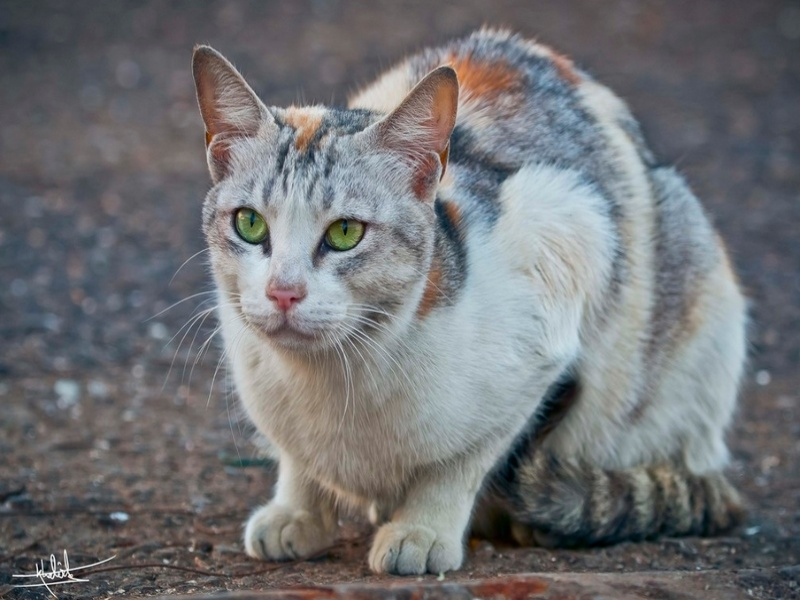cat: (177, 18, 759, 583)
